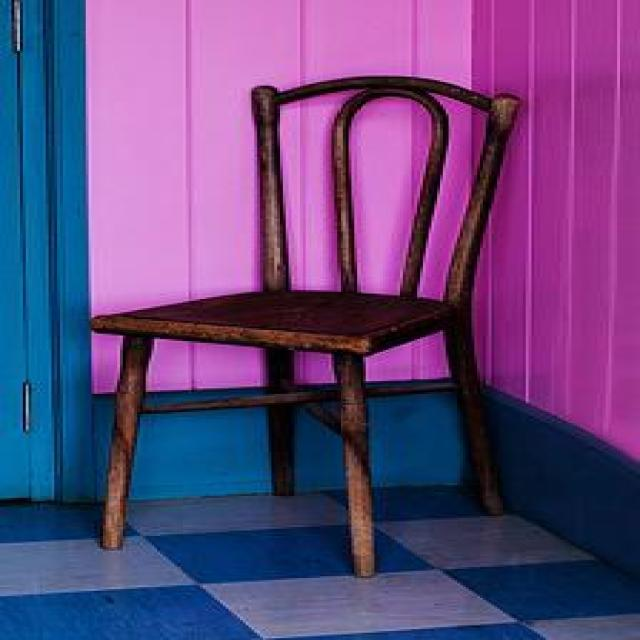chair: (89, 73, 520, 576)
